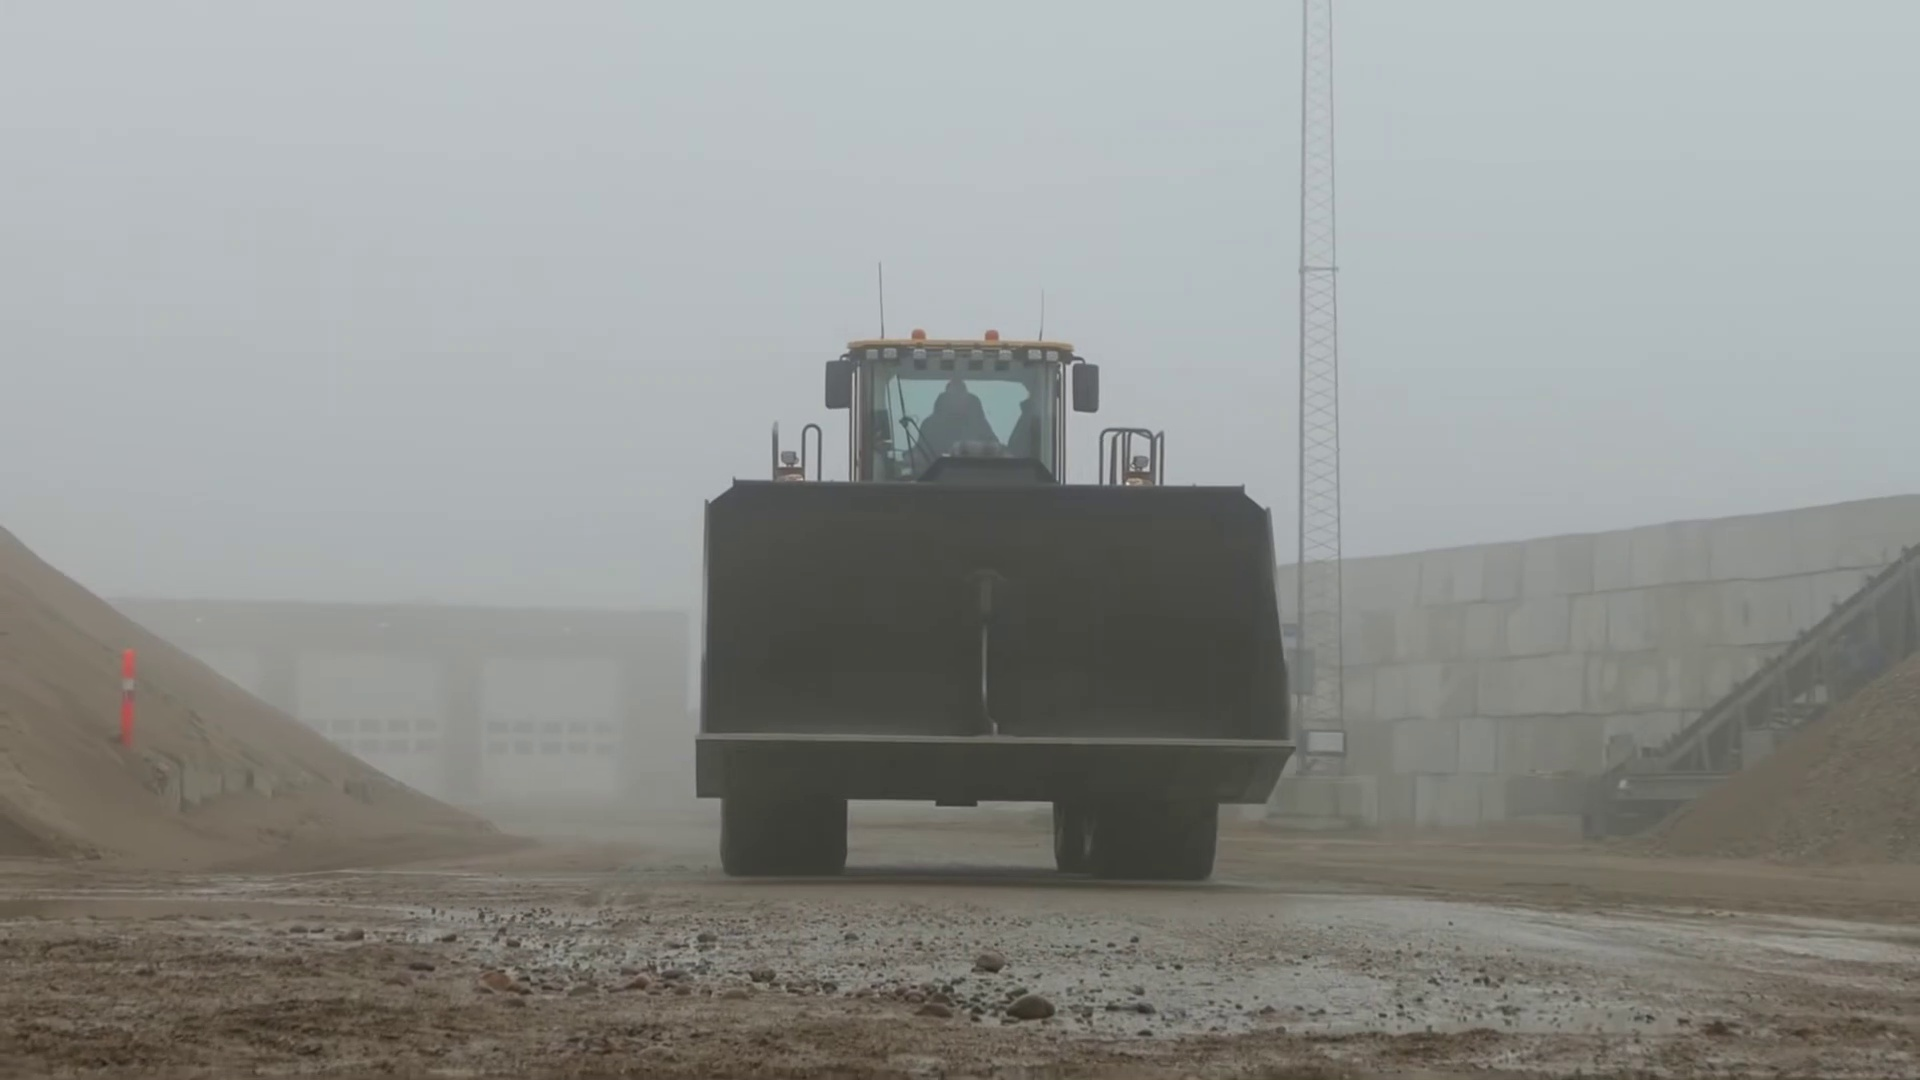wheel loader: (694, 328, 1302, 882)
